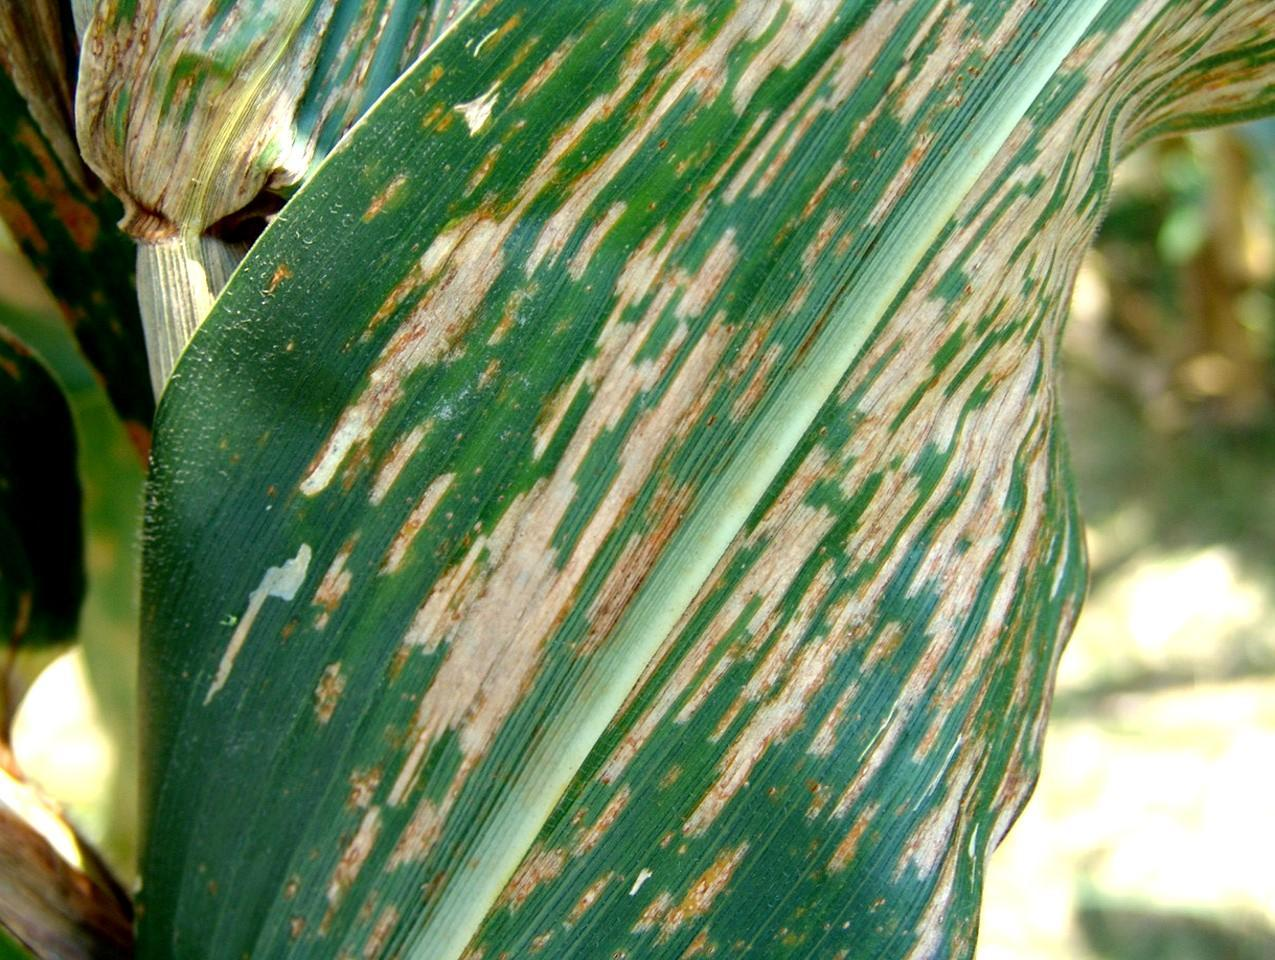Gray_Leaf_Spot: (810, 339, 1114, 607), (883, 727, 1101, 960), (412, 477, 567, 735), (41, 0, 146, 365), (896, 555, 1099, 727), (0, 702, 129, 960), (1075, 0, 1275, 132), (894, 215, 1097, 339), (552, 467, 686, 612), (702, 69, 848, 199), (0, 0, 50, 367), (733, 666, 867, 800), (542, 326, 687, 446), (141, 0, 206, 247), (253, 0, 349, 159), (636, 818, 743, 960), (267, 861, 420, 957), (349, 0, 441, 145), (439, 0, 525, 151), (965, 117, 1108, 207), (607, 620, 687, 775), (597, 277, 756, 352), (196, 0, 251, 210), (705, 522, 822, 610), (366, 270, 490, 352), (613, 0, 686, 130), (517, 861, 624, 949), (729, 612, 821, 713), (293, 543, 341, 727), (282, 434, 422, 495), (645, 205, 758, 278), (519, 212, 636, 281), (389, 731, 431, 922), (689, 0, 758, 117), (888, 0, 989, 75), (676, 708, 739, 827), (535, 117, 640, 188), (793, 775, 871, 869), (869, 85, 926, 211), (988, 0, 1082, 73), (247, 0, 278, 214), (194, 601, 259, 700), (433, 187, 498, 285), (328, 763, 404, 845), (674, 612, 733, 715), (236, 537, 314, 612), (787, 220, 848, 310), (813, 0, 888, 71), (495, 832, 571, 901), (334, 356, 454, 398), (797, 561, 902, 607), (359, 153, 435, 216), (508, 4, 554, 100), (781, 901, 867, 951), (315, 398, 414, 442), (502, 134, 554, 216), (575, 779, 630, 855), (823, 616, 892, 677), (93, 417, 164, 471), (774, 457, 814, 547), (177, 855, 223, 935), (358, 507, 406, 578), (464, 337, 514, 398), (557, 0, 609, 59), (542, 90, 611, 134), (404, 469, 447, 534), (762, 4, 810, 61), (240, 262, 297, 310), (726, 364, 768, 419), (210, 429, 244, 473), (479, 279, 540, 302), (852, 732, 877, 786), (464, 930, 493, 955), (827, 171, 831, 207)
